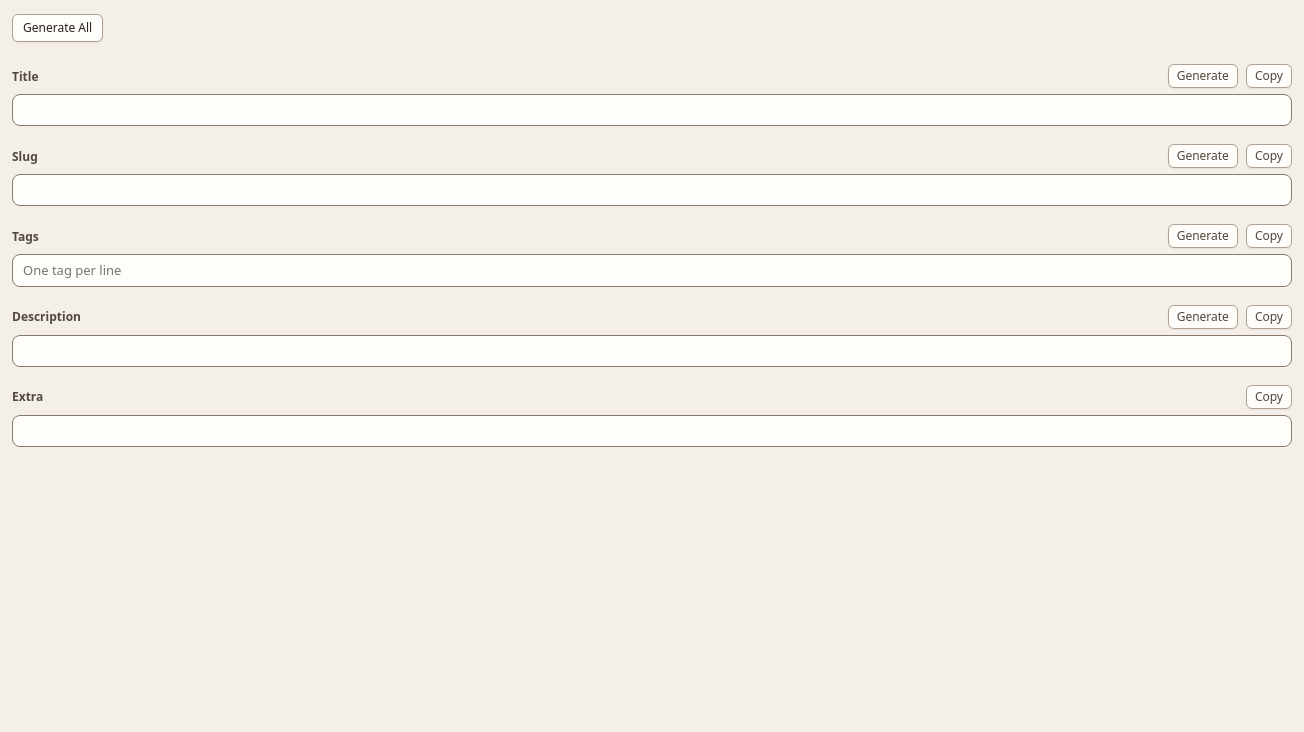
MetadataTab Generate All › reports fields the batch could not generate
Click the button with class "btn-generate-all" at (58, 28), box [12,14,103,42]
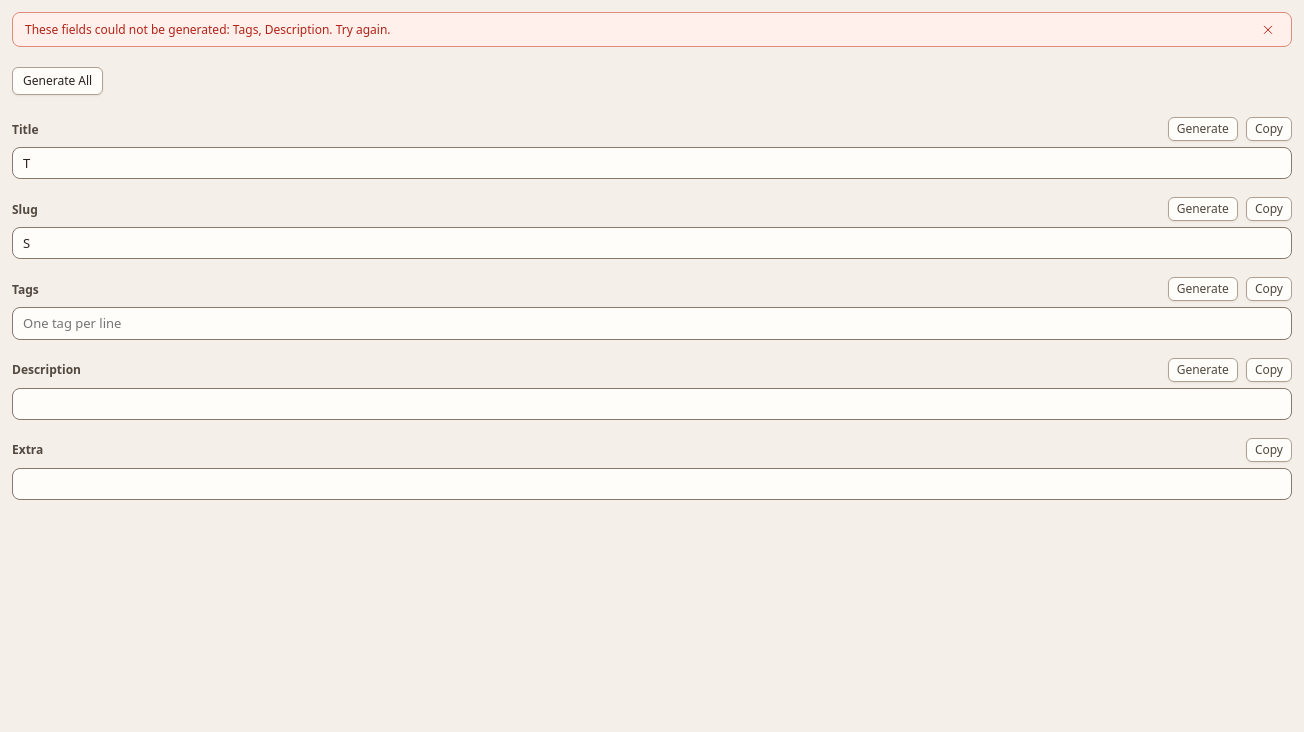
Result: the message with class "metadata-error" shows "These fields could not be generated: Tags, Description." at [25,21,390,38]
